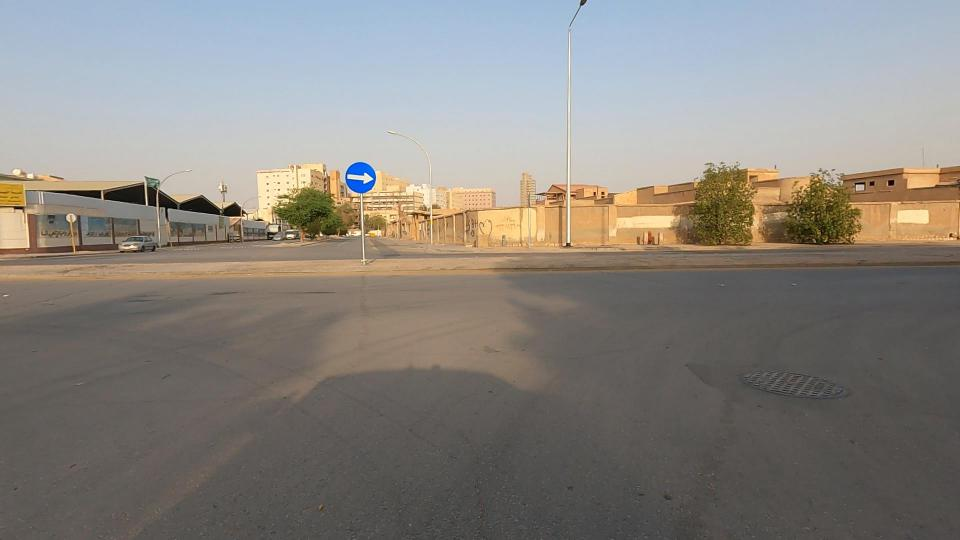GRAFFITI: (424, 199, 524, 259), (476, 198, 544, 248)
